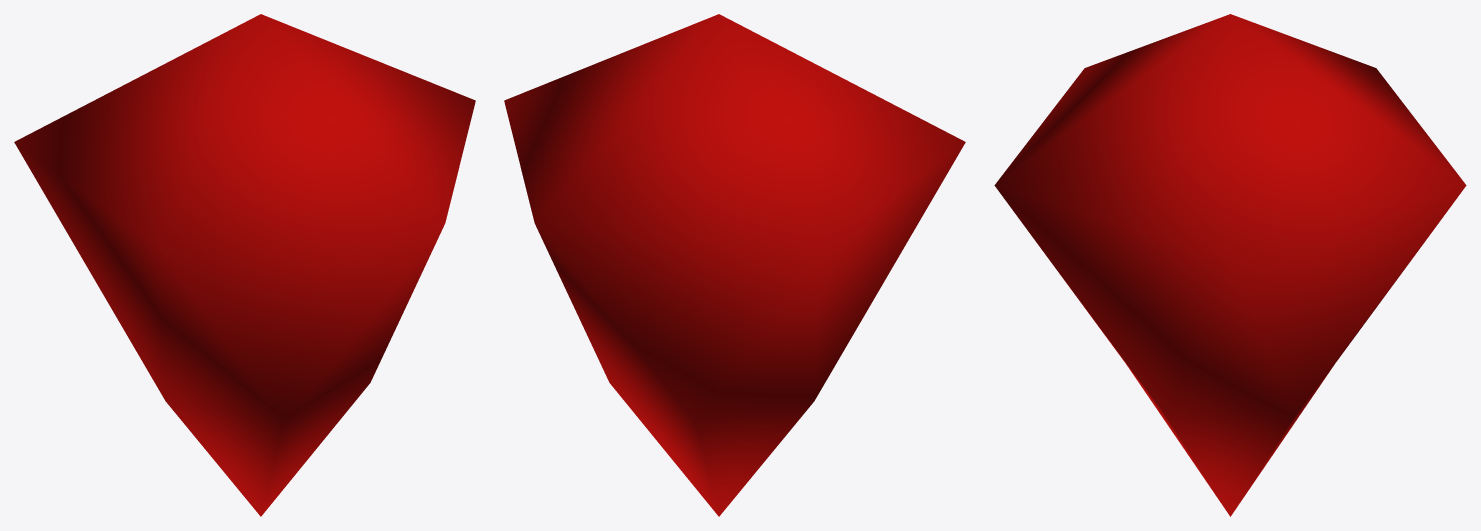
File: ruby.gltf
3 renders of one model, left to right at view 1: azimuth 30°, elevation 25°; view 2: azimuth 150°, elevation 25°; view 3: azimuth 270°, elevation 25°, orthographic.
Parts seen in each view (by area): view 1: Icosphere; view 2: Icosphere; view 3: Icosphere.
Boxes of the visible parts, <box> form: Icosphere: <box>14,14,475,516</box>; Icosphere: <box>504,14,965,516</box>; Icosphere: <box>994,14,1466,516</box>.
Bounding box in the file's own units: 1.62 × 2 × 1.7.
